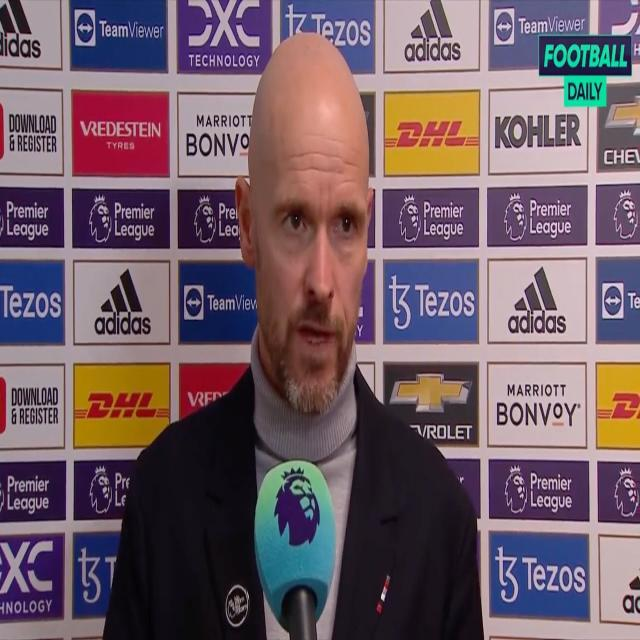Adidas: (507, 265, 566, 336), (95, 267, 152, 337), (405, 0, 462, 65)
Chevrolet: (390, 371, 474, 441)
Kohler: (495, 108, 581, 152)
TeamViewer: (76, 9, 165, 48)
